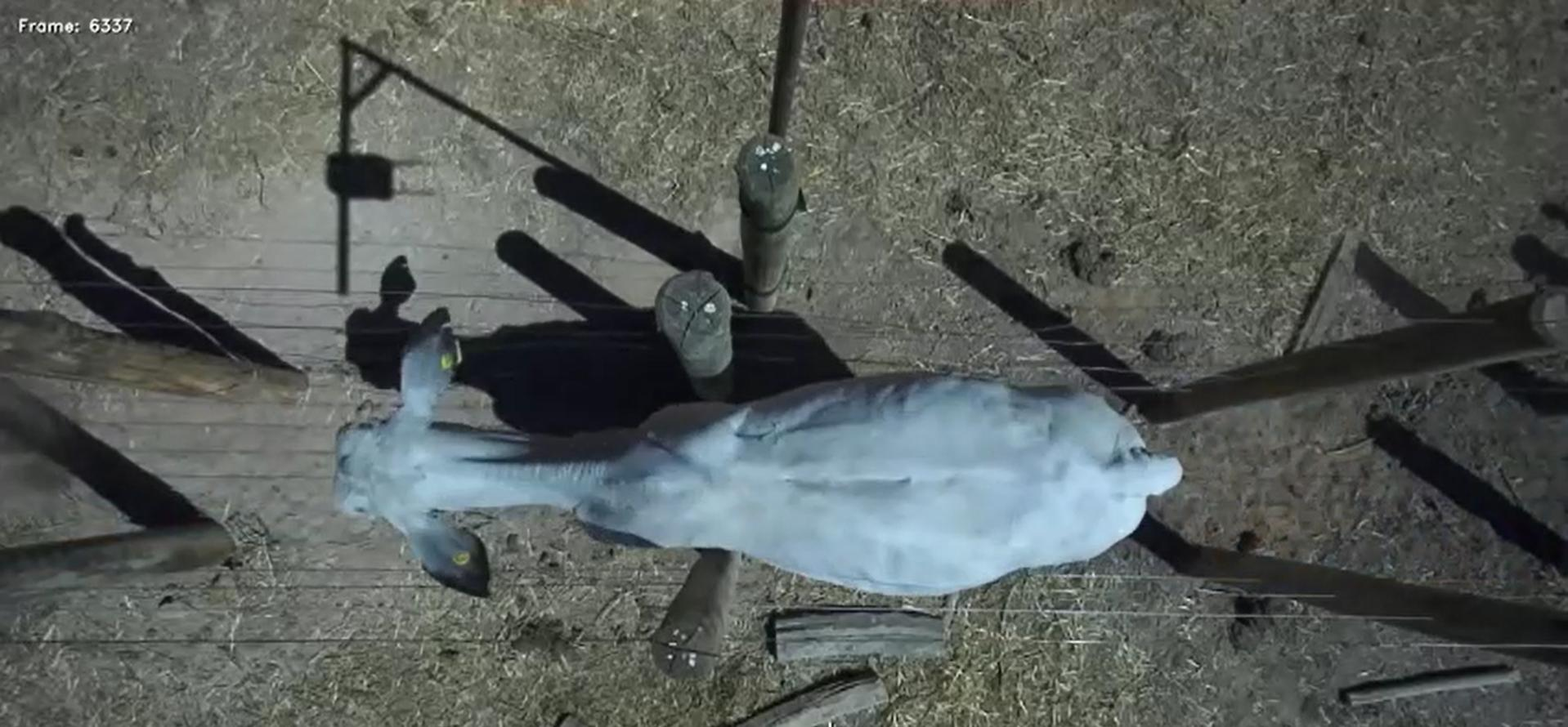cattle: (327, 317, 1190, 609)
